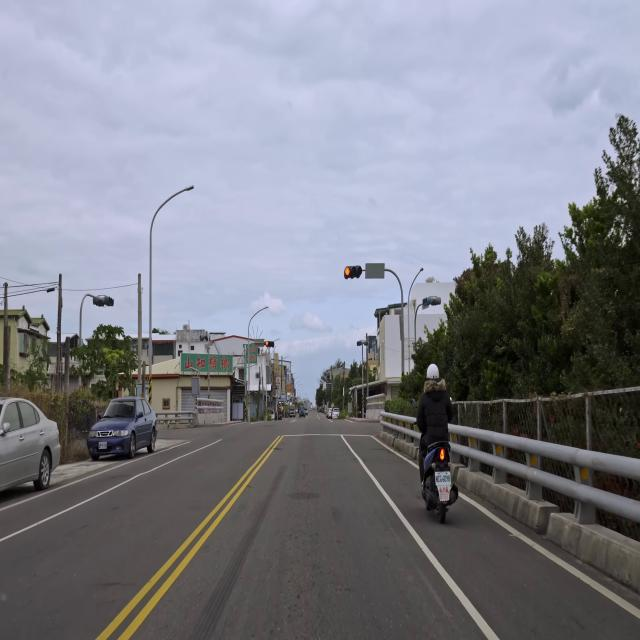red light: (344, 266, 362, 279), (265, 340, 275, 348)
